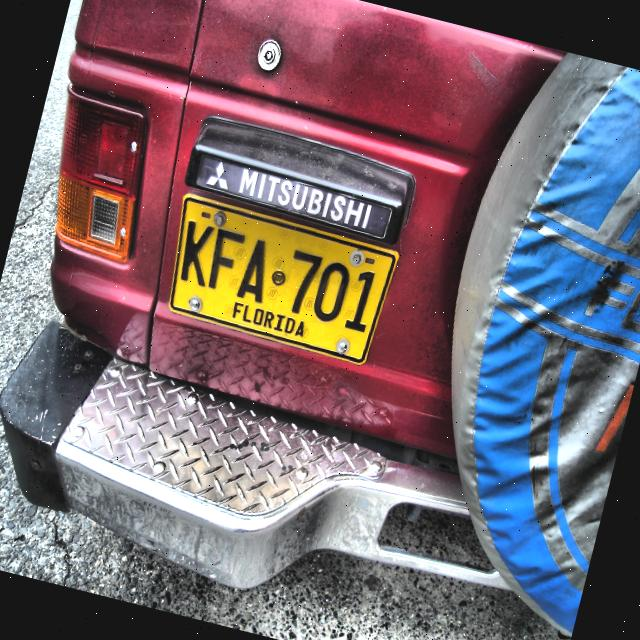plate: (167, 192, 398, 366)
